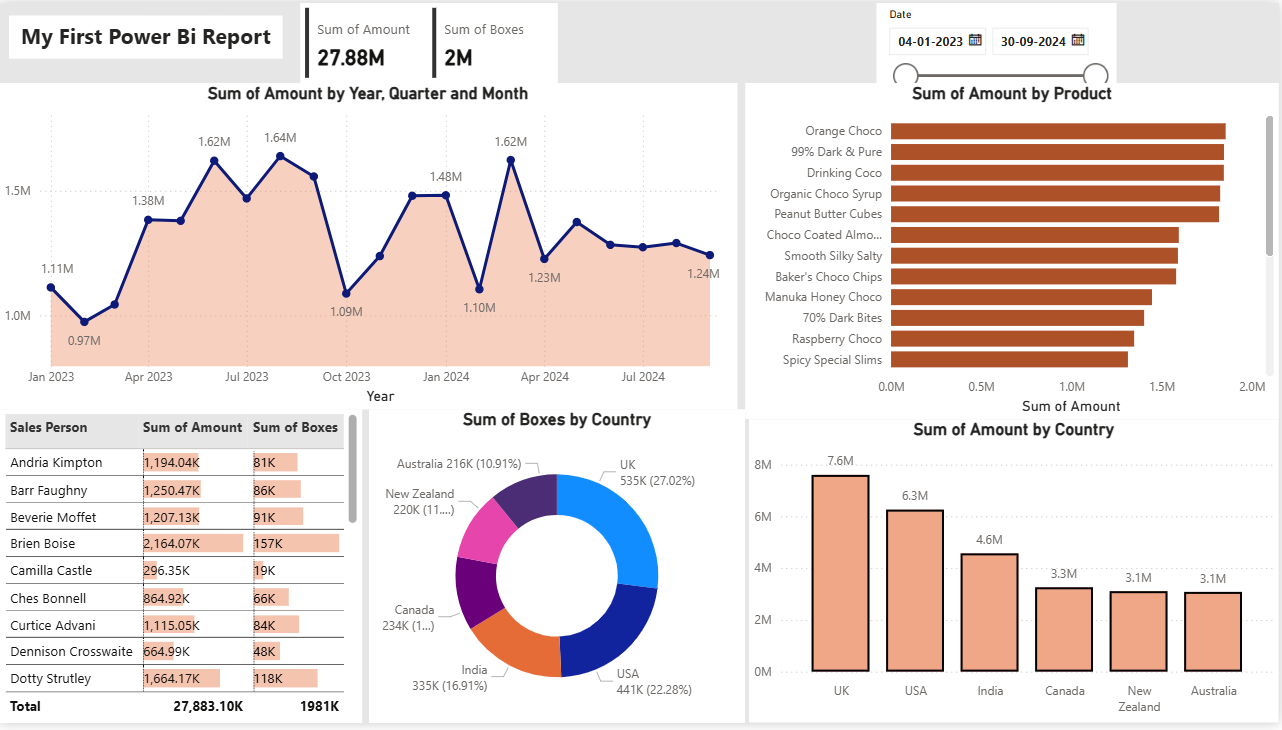

This screenshot's page, from the dashboard's own definition file:
{"tool":"powerbi","page":{"name":"Page 2","canvas":[1280,720],"ordinal":1},"visuals":[{"type":"lineChart","fields":{"Category":["data.Date.Variation.Date Hierarchy.Year","data.Date.Variation.Date Hierarchy.Quarter","data.Date.Variation.Date Hierarchy.Month","data.Date.Variation.Date Hierarchy.Day"],"Y":["data.Amount"]},"box":[0,79.8,738.1,326.2],"z":0},{"type":"barChart","fields":{"Y":["data.Amount"],"Category":["data.Product"]},"box":[746.2,80,533.8,336.2],"z":1000},{"type":"donutChart","fields":{"Category":["data.Country"],"Y":["data.Boxes"]},"box":[370.2,406,376.2,314.3],"z":2000},{"type":"tableEx","fields":{"Values":["data.Sales Person","data.Amount","data.Boxes"]},"box":[0,406,363.1,314.3],"z":3000},{"type":"cardVisual","fields":{"Data":["data.Amount","data.Boxes"]},"box":[301.2,0,257.5,80],"z":4000},{"type":"slicer","fields":{"Values":["data.Date"]},"box":[877.5,0,240,80],"z":5000},{"type":"textbox","box":[9.5,11.9,273.8,42.9],"z":6000},{"type":"columnChart","fields":{"Y":["data.Amount"],"Category":["data.Country"]},"box":[750,416.7,529.8,303.6],"z":7000}]}

Visuals, with their boxes in screenshot pixels (x1, y1, x2, y2), scaled from the page's 1280x720 canvas onto the 1282x730 screenshot:
lineChart - data.Date.Variation.Date Hierarchy.Year x data.Date.Variation.Date Hierarchy.Quarter: x1=0 y1=81 x2=739 y2=412
barChart - data.Amount x data.Product: x1=747 y1=81 x2=1281 y2=422
donutChart - data.Country x data.Boxes: x1=371 y1=412 x2=748 y2=729
tableEx - data.Sales Person x data.Amount: x1=0 y1=412 x2=364 y2=729
cardVisual - data.Amount x data.Boxes: x1=302 y1=0 x2=560 y2=81
slicer - data.Date: x1=879 y1=0 x2=1119 y2=81
textbox: x1=10 y1=12 x2=284 y2=56
columnChart - data.Amount x data.Country: x1=751 y1=422 x2=1281 y2=729
